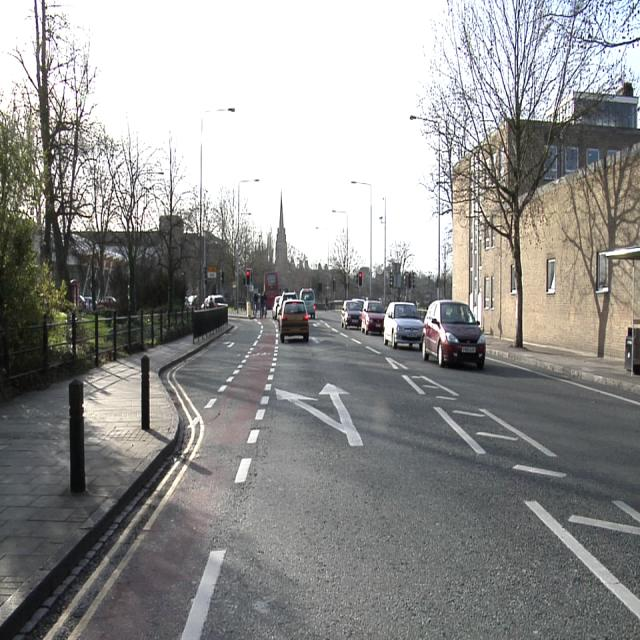Car: (422, 301, 485, 367), (383, 302, 422, 347), (280, 301, 310, 341), (362, 301, 383, 332), (341, 300, 363, 327)
Road: (36, 310, 639, 635)
Tree: (419, 1, 639, 295), (1, 0, 195, 331), (209, 184, 259, 307), (329, 228, 363, 297), (390, 237, 414, 295)
